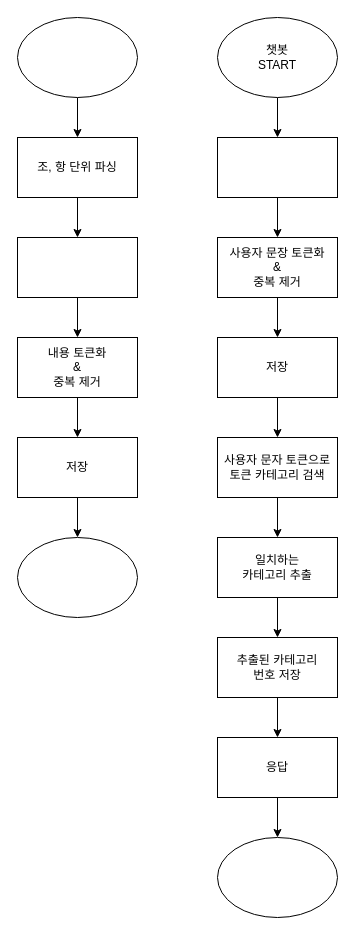
This 355x935 diagram has some shape labels left out. The shapes that lost their labels are listed below. From the top down, each one's box as (x1, y1, x2, y2) in pixels, then its label:
(16, 16, 138, 98): 전처리 START
(216, 136, 338, 198): 사용자 문장 입력
(16, 236, 138, 298): 제목 토큰화 & 중복 제거
(16, 536, 138, 618): 전처리 END
(216, 836, 338, 918): 챗봇 END
